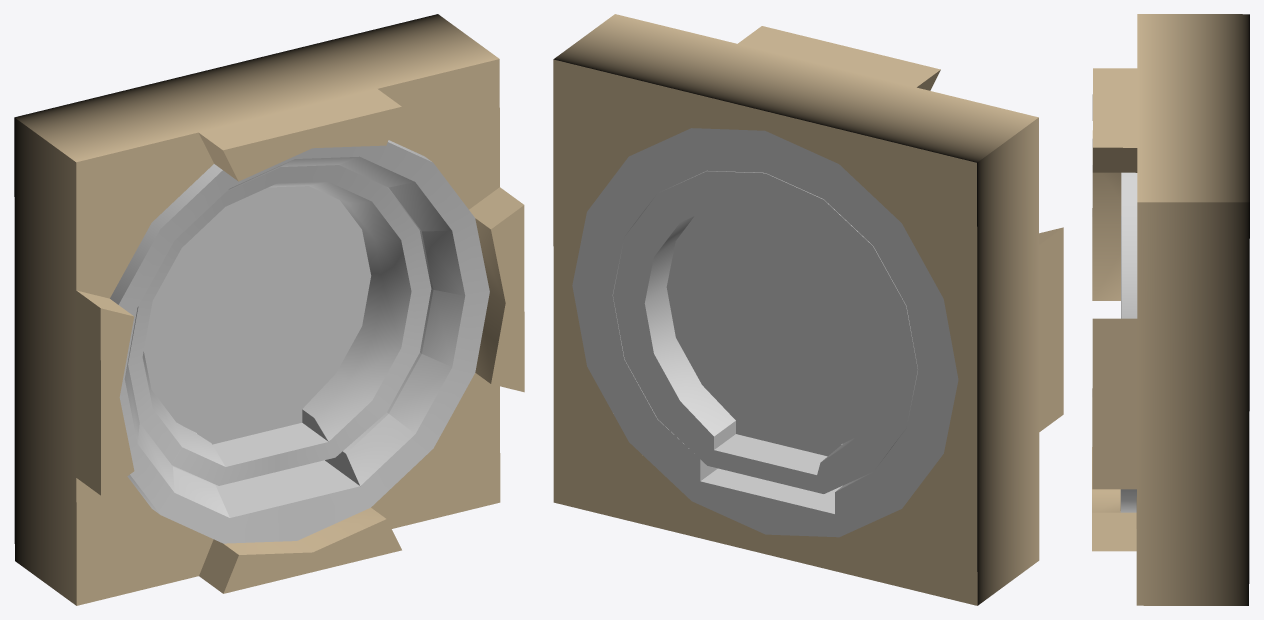
Rendered from portal1.fbx.
3 renders of one model, left to right at view 1: azimuth 30°, elevation 25°; view 2: azimuth 150°, elevation 25°; view 3: azimuth 270°, elevation 25°, orthographic. The views are drawn at different scales.
Parts seen in each view (by area): view 1: Frame, Ring_Buiten, portal, Ring_Binnen; view 2: Frame, Ring_Buiten, portal, Ring_Binnen; view 3: Frame, Ring_Buiten.
Boxes of the visible parts, x1,y1,x2,y2 form: Frame: [14, 14, 524, 605]; Ring_Buiten: [110, 140, 489, 543]; portal: [143, 186, 371, 444]; Ring_Binnen: [128, 165, 431, 485]; Frame: [553, 14, 1063, 605]; Ring_Buiten: [572, 128, 958, 537]; portal: [666, 205, 885, 456]; Ring_Binnen: [613, 170, 917, 493]; Frame: [1092, 14, 1249, 605]; Ring_Buiten: [1120, 172, 1137, 512].
Size of the model in its own units: 280 by 280 by 99.1.
